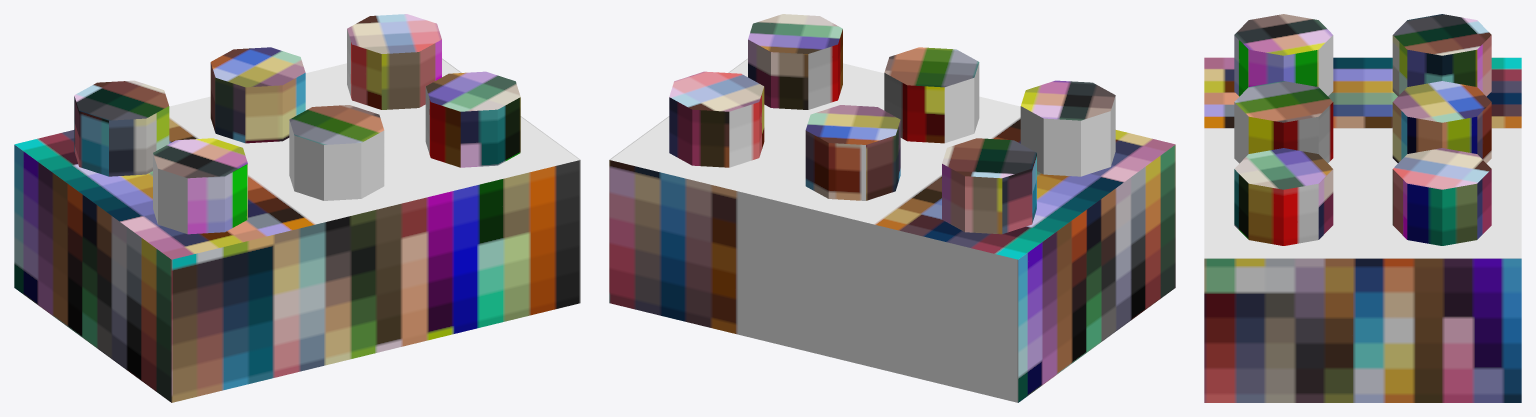
Rendered from Lego2.fbx.
The picture shows the model from 3 angles, left to right: view 1: azimuth 30°, elevation 25°; view 2: azimuth 150°, elevation 25°; view 3: azimuth 270°, elevation 25°; orthographic projection.
Visible parts, largest first — view 1: Prop_BuildingBlockToy_05; view 2: Prop_BuildingBlockToy_05; view 3: Prop_BuildingBlockToy_05.
Boxes of the visible parts, bbox=[...] form: Prop_BuildingBlockToy_05: bbox=[14, 14, 580, 402]; Prop_BuildingBlockToy_05: bbox=[609, 14, 1175, 402]; Prop_BuildingBlockToy_05: bbox=[1204, 14, 1521, 402].
Size of the model in its own units: 17.37 by 8.08 by 11.58.
